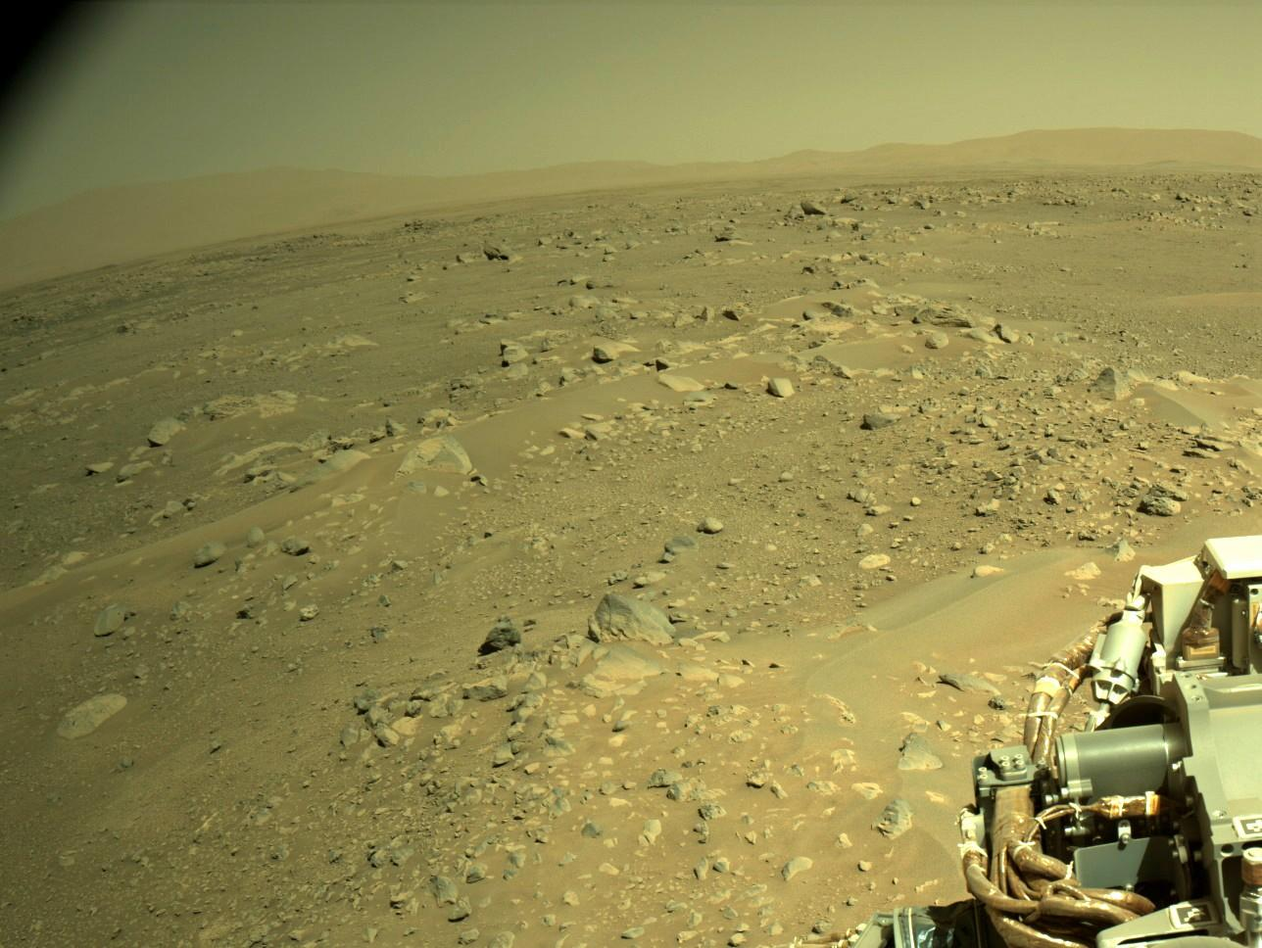bedrock: (10, 246, 1223, 599), (297, 640, 889, 916), (898, 441, 1188, 554), (995, 705, 1062, 826), (843, 192, 964, 255), (1061, 197, 1259, 221), (624, 560, 705, 607), (1048, 638, 1093, 701), (1097, 314, 1170, 346), (564, 231, 629, 262), (274, 808, 314, 849), (580, 560, 626, 588), (911, 707, 946, 742), (324, 942, 701, 945), (1198, 465, 1227, 501), (25, 606, 73, 626), (1106, 567, 1142, 592), (1224, 456, 1243, 473), (458, 431, 475, 446), (1238, 417, 1254, 432), (897, 738, 909, 757), (344, 495, 363, 504), (1213, 501, 1228, 512), (968, 559, 991, 565), (1072, 536, 1092, 542), (881, 742, 892, 752), (501, 316, 511, 327), (328, 235, 350, 239), (722, 636, 734, 641), (290, 510, 300, 515), (879, 892, 885, 900), (6, 305, 7, 332), (743, 942, 750, 944), (125, 591, 129, 594), (859, 916, 864, 918)
big_rock: (388, 213, 488, 229), (626, 272, 717, 286), (529, 274, 556, 301), (453, 302, 508, 313)
sand: (911, 828, 1048, 928), (1145, 535, 1254, 618)
soil: (507, 166, 1261, 544), (4, 400, 378, 942), (13, 231, 393, 389), (8, 248, 284, 304), (969, 704, 1046, 792), (1063, 619, 1143, 703), (752, 901, 909, 942), (412, 265, 550, 298), (953, 202, 1137, 213), (504, 932, 713, 936), (443, 940, 740, 941), (893, 238, 908, 248), (7, 358, 9, 398), (902, 900, 918, 904), (757, 932, 788, 933), (911, 234, 915, 237)
